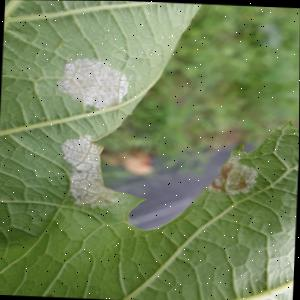Folha: (0, 0, 300, 300)
Fungo: (55, 131, 125, 209), (55, 55, 131, 112), (207, 153, 260, 196)
